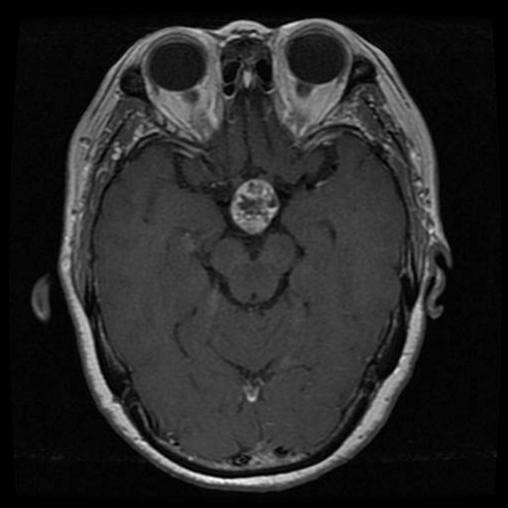Tumour-Pituitary: (220, 178, 284, 238)
